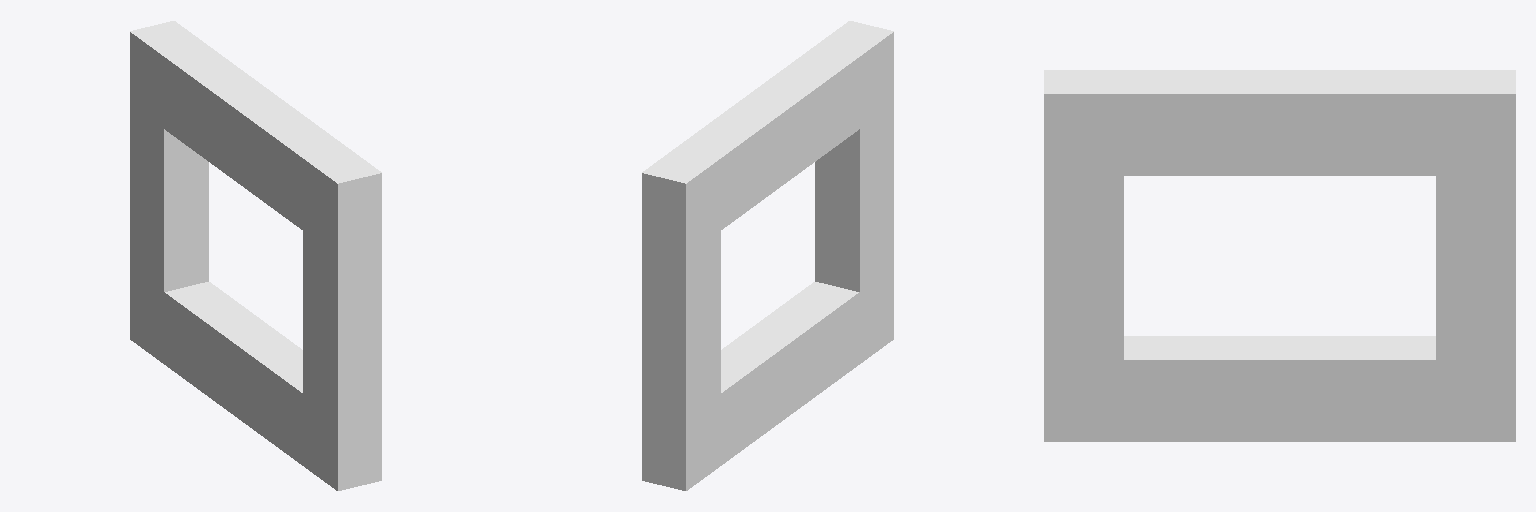
URDF robot description (geom_hollow_cuboid):
<?xml version='1.0' encoding='UTF-8'?>
<robot name="geom_hollow_cuboid">
  <link name="base">
    <inertial>
      <origin xyz="0.0 0.0 0.0" rpy="0.0 -0.0 0.0"/>
      <mass value="1.0"/>
      <inertia ixx="1.0" ixy="0.0" ixz="0.0" iyy="1.0" iyz="0.0" izz="1.0"/>
    </inertial>
    <visual>
      <geometry>
        <box size="0.17142643 1.38255012 0.26536053"/>
      </geometry>
      <material name="color[1.0, 1.0, 1.0, 1.0]"/>
      <origin xyz="0.0 0.0 0.4310745894908905" rpy="0.0 0.0 0.0"/>
    </visual>
    <visual>
      <geometry>
        <box size="0.17142643 1.38255012 0.26536053"/>
      </geometry>
      <material name="color[1.0, 1.0, 1.0, 1.0]"/>
      <origin xyz="0.0 0.0 -0.4310745894908905" rpy="0.0 0.0 0.0"/>
    </visual>
    <visual>
      <geometry>
        <box size="0.17142643 0.23194849 1.12750971"/>
      </geometry>
      <material name="color[1.0, 1.0, 1.0, 1.0]"/>
      <origin xyz="0.0 0.5753008127212524 0.0" rpy="0.0 0.0 0.0"/>
    </visual>
    <visual>
      <geometry>
        <box size="0.17142643 0.23194849 1.12750971"/>
      </geometry>
      <material name="color[1.0, 1.0, 1.0, 1.0]"/>
      <origin xyz="0.0 -0.5753008127212524 0.0" rpy="0.0 0.0 0.0"/>
    </visual>
    <collision>
      <geometry>
        <box size="0.17142643 1.38255012 0.26536053"/>
      </geometry>
      <origin xyz="0.0 0.0 0.4310745894908905" rpy="0.0 0.0 0.0"/>
    </collision>
    <collision>
      <geometry>
        <box size="0.17142643 1.38255012 0.26536053"/>
      </geometry>
      <origin xyz="0.0 0.0 -0.4310745894908905" rpy="0.0 0.0 0.0"/>
    </collision>
    <collision>
      <geometry>
        <box size="0.17142643 0.23194849 1.12750971"/>
      </geometry>
      <origin xyz="0.0 0.5753008127212524 0.0" rpy="0.0 0.0 0.0"/>
    </collision>
    <collision>
      <geometry>
        <box size="0.17142643 0.23194849 1.12750971"/>
      </geometry>
      <origin xyz="0.0 -0.5753008127212524 0.0" rpy="0.0 0.0 0.0"/>
    </collision>
  </link>
  <material name="color[1.0, 1.0, 1.0, 1.0]">
    <color rgba="1. 1. 1. 1."/>
  </material>
</robot>

--- What the picture shows (computed from the rendered views, not written in the file) ---
Views: 3 orthographic renders of the robot side by side, from view 1: azimuth 30°, elevation 25°; view 2: azimuth 150°, elevation 25°; view 3: azimuth 270°, elevation 25°.
Robot: geom_hollow_cuboid — 1 links, 0 joints (none); root link base; default pose: every joint at zero.
Visible links, largest first — view 1: base; view 2: base; view 3: base.
Boxes of the visible links, left/top/right/bottom form: base: left=130, top=21, right=381, bottom=490; base: left=642, top=21, right=893, bottom=490; base: left=1044, top=70, right=1515, bottom=441.
Bounding box of the posed robot: 0.1714 × 1.38 × 1.13 m (x, y, z).
Geometry: primitives only (box / cylinder / sphere), no mesh files.
